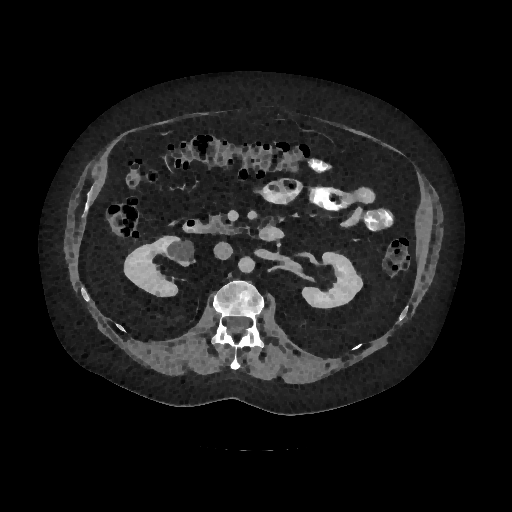Lesion: (160, 235, 199, 266)
